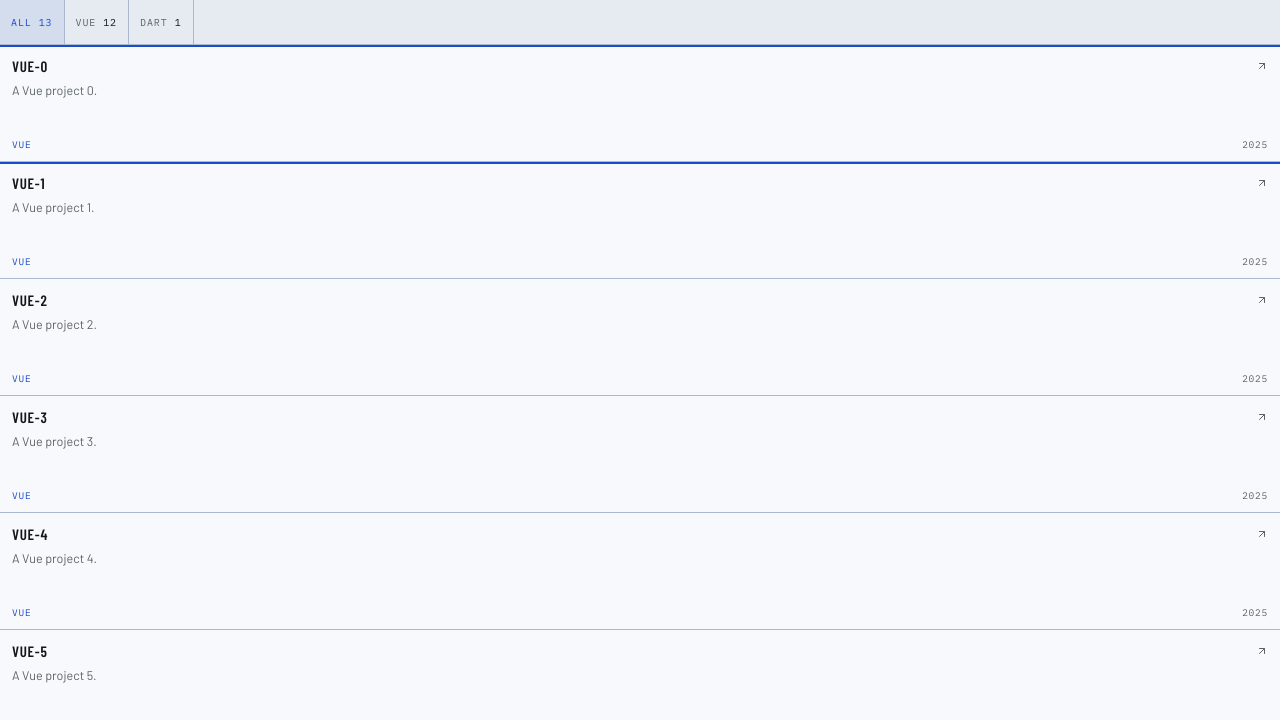
RepositoryBrowser › returns to the full list on All
Click the button "Dart 1" at x=161, y=22, box [129,0,194,44]
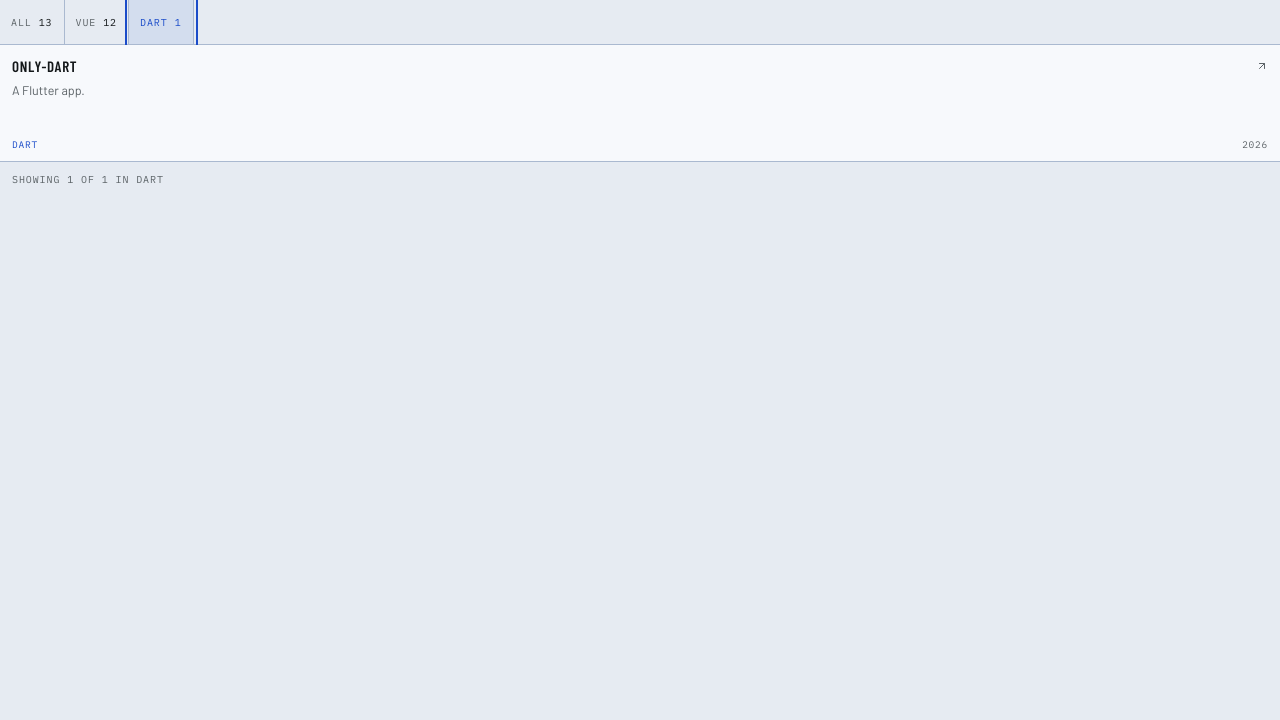
Click the button "All 13" at x=32, y=22, box [0,0,64,44]
(page scrolled)
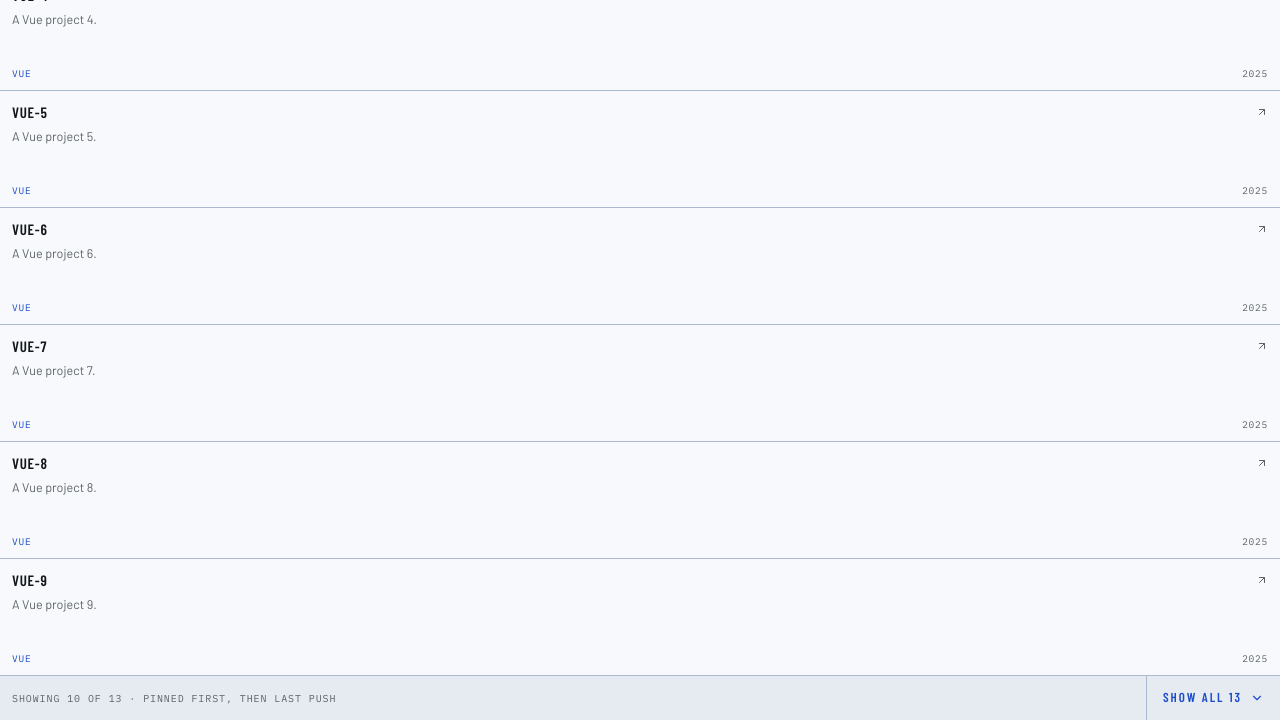
Result: the text "Showing 10 of 13 · pinned first, then last push" is shown at [12,692,336,704]
